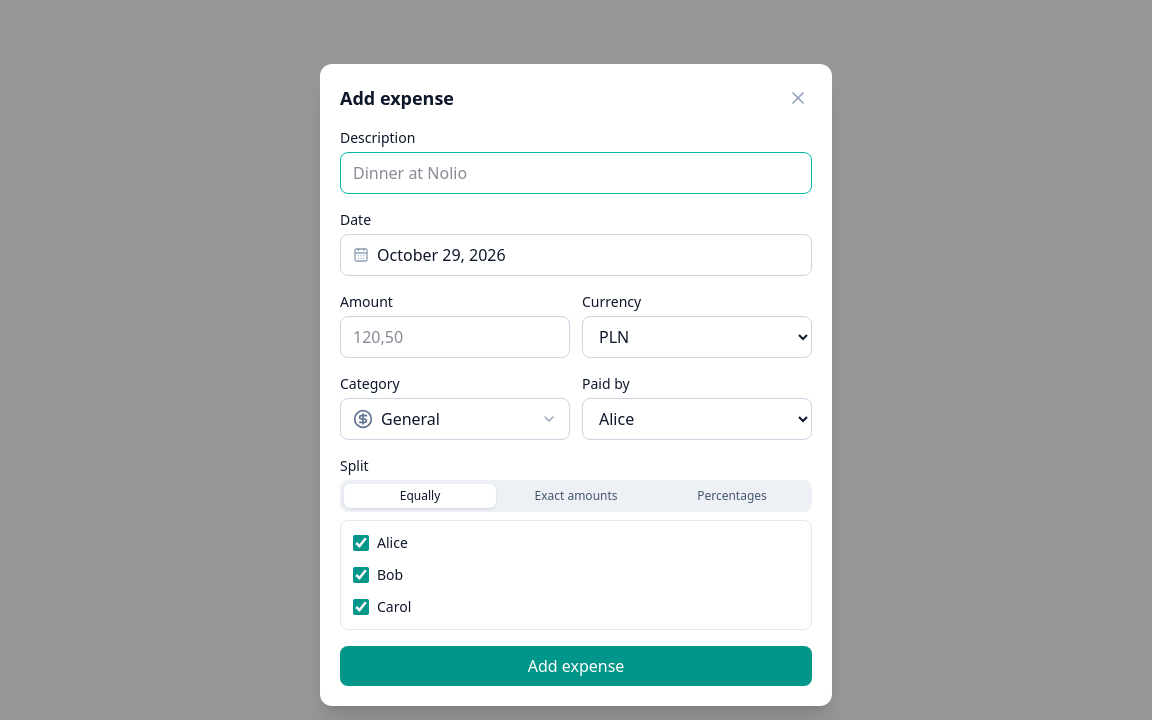
Test: ExpenseFormModal — the amount is explained, not echoed back as a 422 › names the currency's own precision instead of letting the API reject it
The width and height of the screenshot is (1152, 720).
Type "10.123" into the field with placeholder "120,50" at (455, 337), box 340,316 -> 570,358
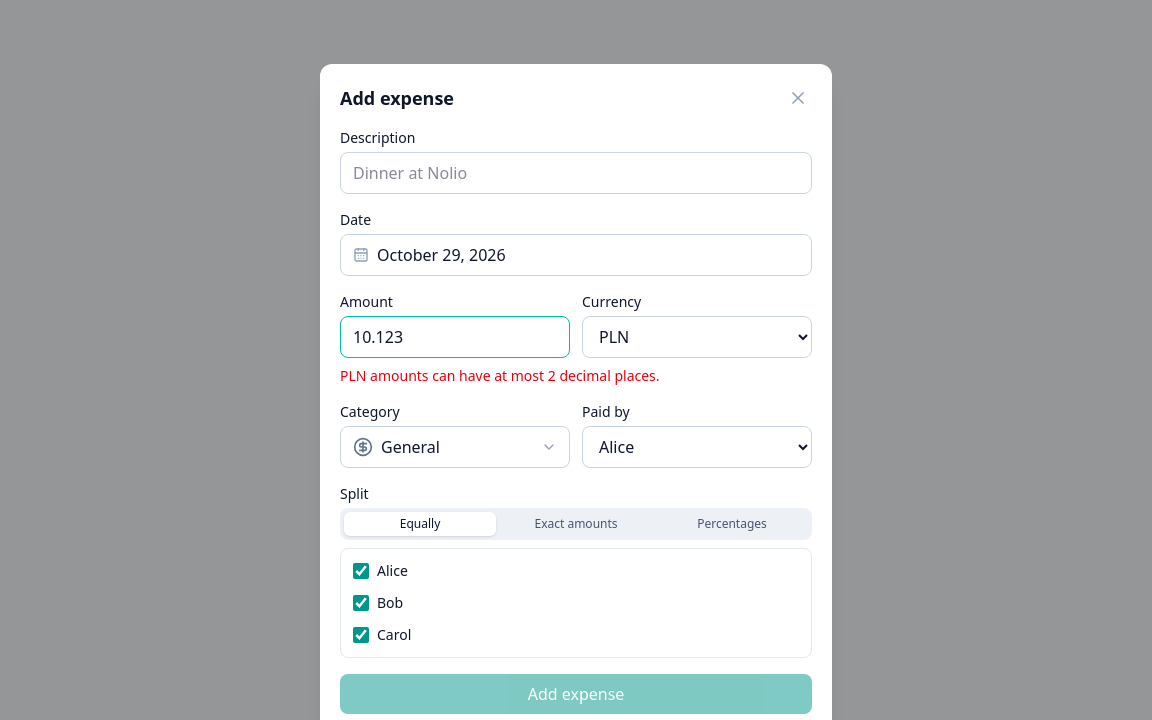
Result: the text "PLN amounts can have at most 2 decimal places." is shown at 340,366 -> 660,385
